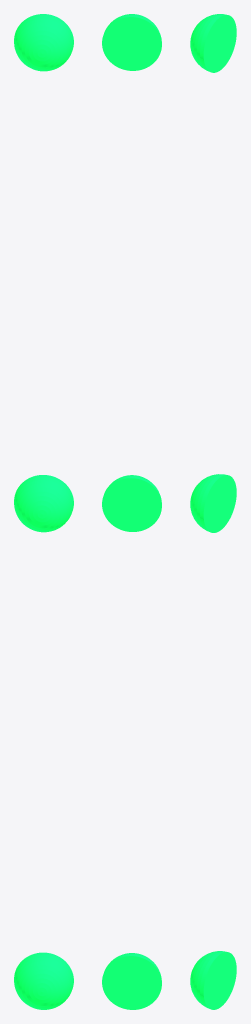
Rendered from sqlLight.glb.
3 views of the same model, side by side, from view 1: azimuth 30°, elevation 25°; view 2: azimuth 210°, elevation 25°; view 3: azimuth 270°, elevation 25° (orthographic).
Visible parts, largest first — view 1: Bottom Server Light, Top Server Light, Middle Server Light; view 2: Middle Server Light, Bottom Server Light, Top Server Light; view 3: Middle Server Light, Top Server Light, Bottom Server Light.
Boxes of the visible parts, x1,y1,x2,y2 form: Bottom Server Light: [14, 952, 73, 1009]; Top Server Light: [14, 14, 73, 71]; Middle Server Light: [14, 475, 73, 532]; Middle Server Light: [102, 475, 161, 531]; Bottom Server Light: [102, 953, 161, 1009]; Top Server Light: [102, 14, 161, 70]; Middle Server Light: [190, 474, 236, 532]; Top Server Light: [190, 14, 236, 72]; Bottom Server Light: [190, 951, 236, 1009].
Bounding box in the file's own units: 0.0921 × 1.83 × 0.078.
